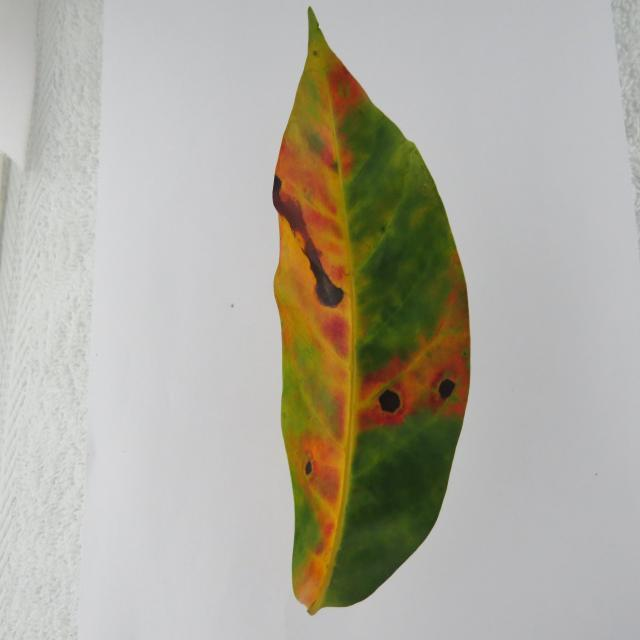DeficienciaNutricional-Fosforo: (272, 8, 470, 613)
